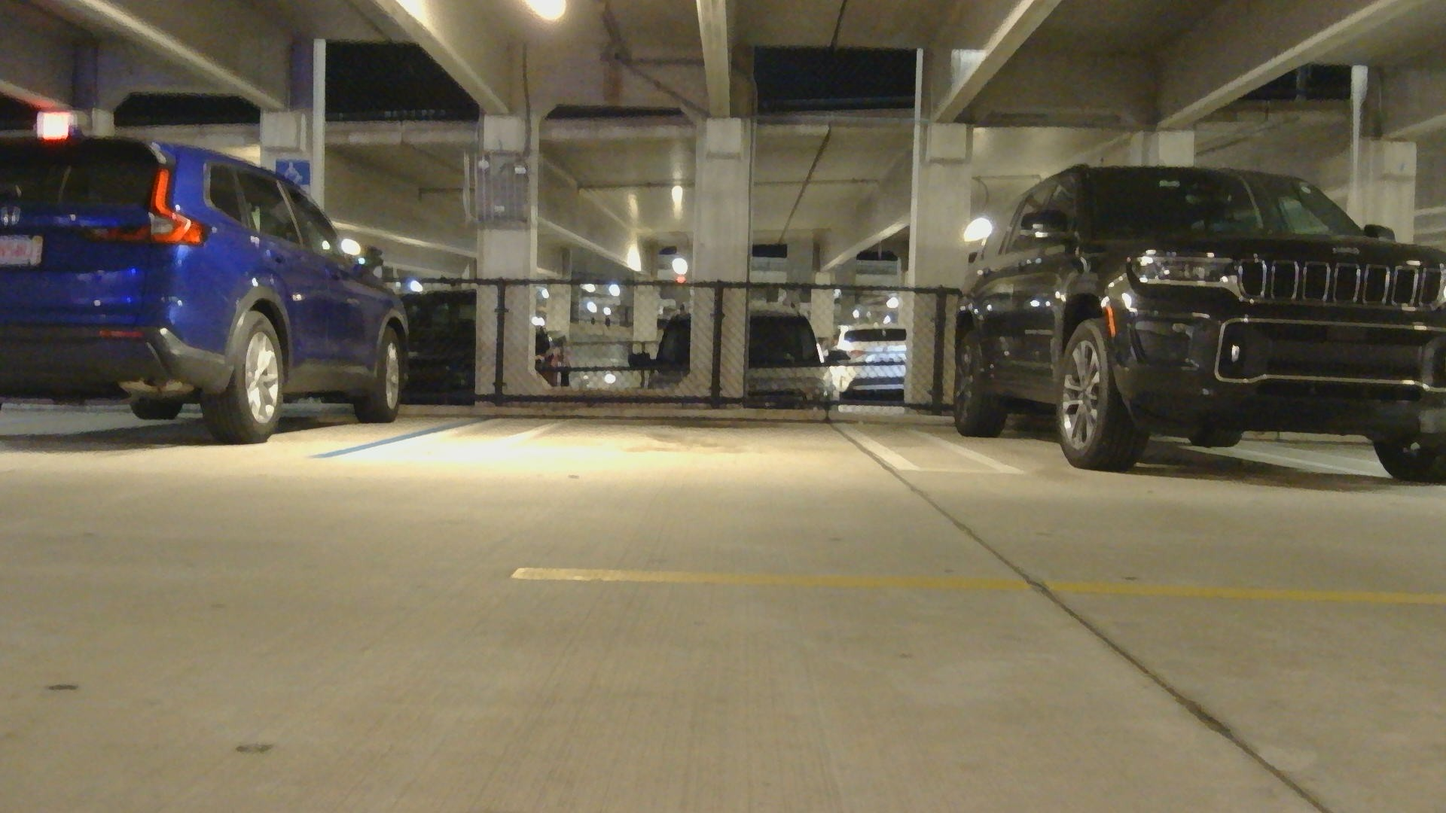empty_spot: (424, 329, 956, 467)
occupied_spot: (908, 147, 1446, 485), (0, 120, 443, 462)
